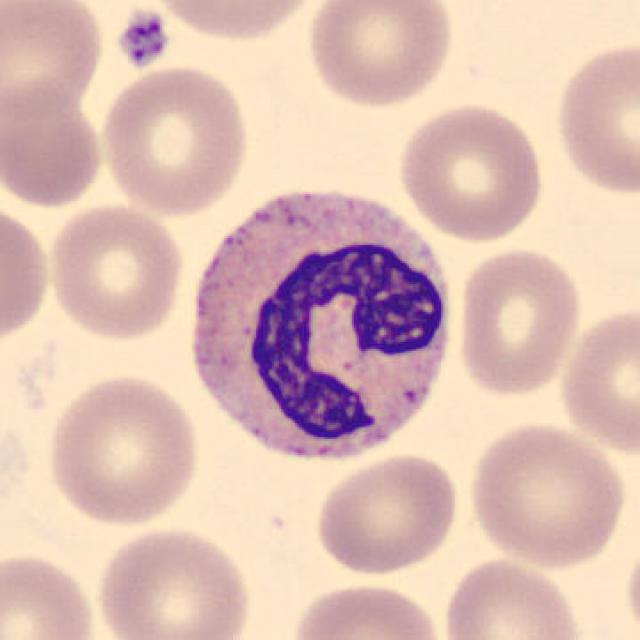Neutrophil: (176, 173, 466, 481)
Platelets: (114, 7, 172, 72)
RBC: (41, 370, 204, 529), (464, 420, 631, 571), (96, 62, 254, 217), (393, 99, 549, 243), (453, 244, 585, 401), (43, 201, 188, 342), (90, 522, 258, 640), (311, 450, 462, 578), (302, 0, 457, 111), (550, 37, 638, 199), (2, 81, 108, 212), (0, 0, 108, 123), (556, 302, 640, 458), (439, 553, 588, 640), (288, 578, 450, 640), (0, 546, 101, 640), (141, 0, 327, 46), (0, 197, 55, 351), (620, 529, 640, 640)
